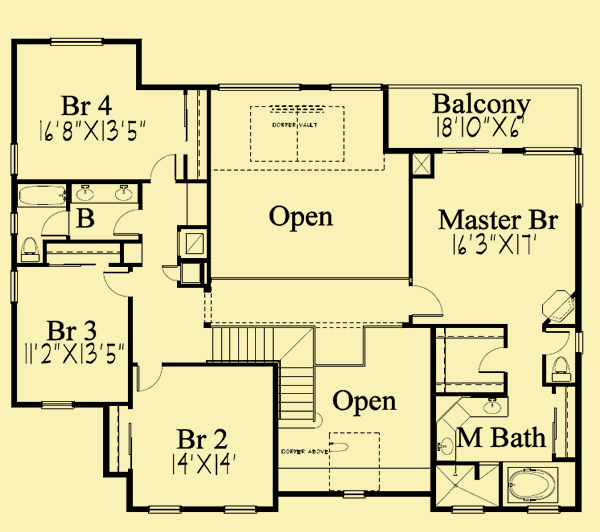bathroom has dual sinks, large sinks and bathtub: (11, 178, 143, 268)
bathroom has dual sinks, large sinks, shower space and bathtub: (435, 396, 580, 512)
master bathroom has a bathtub, small sinks and shower space: (434, 392, 580, 514)
space for stairs: (196, 324, 331, 439)
